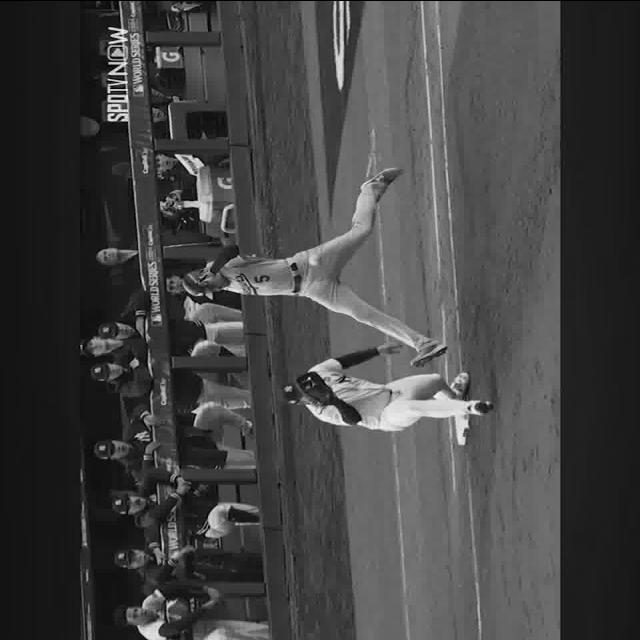base: (455, 414, 470, 443)
baseball: (310, 255, 321, 263)
baseball_glove: (297, 370, 335, 404)
shoe: (361, 166, 403, 192), (412, 337, 447, 366), (450, 371, 470, 399), (468, 399, 493, 414)
